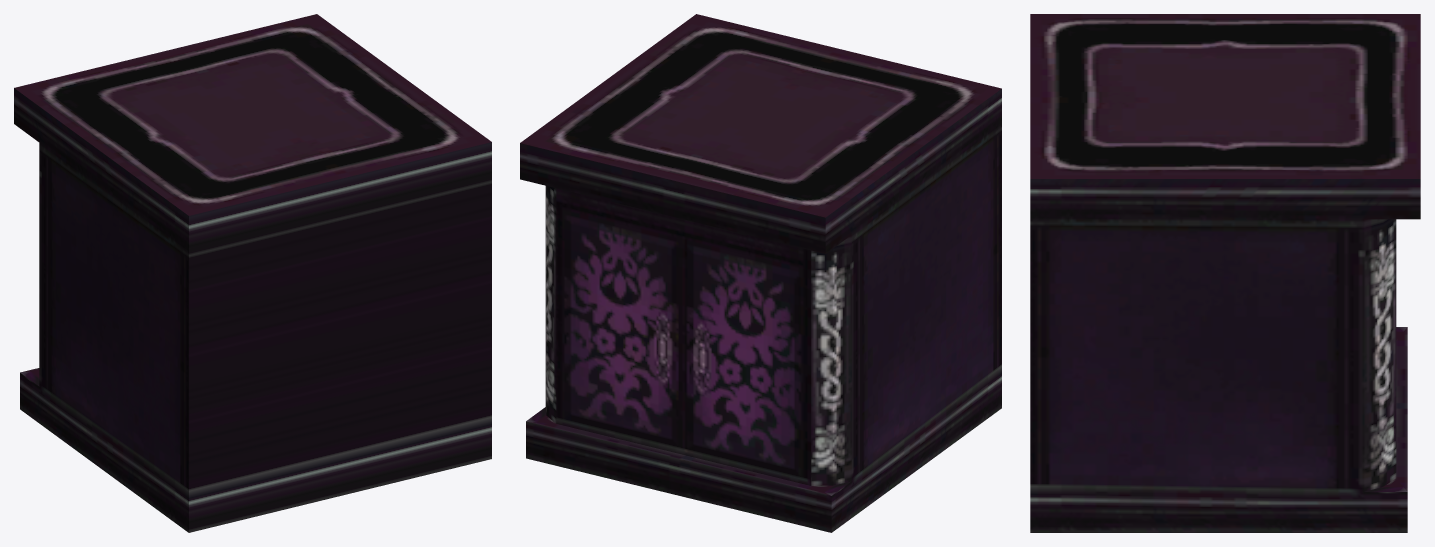
The model's file is furni_0201226_02.FBX.
3 renders of one model, left to right at view 1: azimuth 30°, elevation 25°; view 2: azimuth 150°, elevation 25°; view 3: azimuth 270°, elevation 25°, orthographic. The views are drawn at different scales.
Visible parts, largest first — view 1: furni_0201226_02; view 2: furni_0201226_02; view 3: furni_0201226_02.
Part boxes in pixels (box(x1,y1,x2,y2)): furni_0201226_02: box(14, 14, 491, 532); furni_0201226_02: box(520, 14, 1001, 532); furni_0201226_02: box(1030, 14, 1420, 532).
Size of the model in its own units: 80.04 by 80 by 80.
